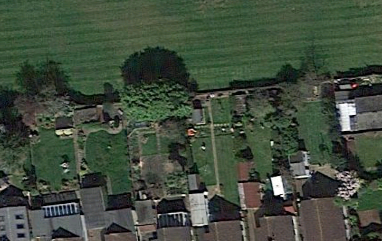tree: (110, 66, 201, 126), (238, 85, 277, 121)
